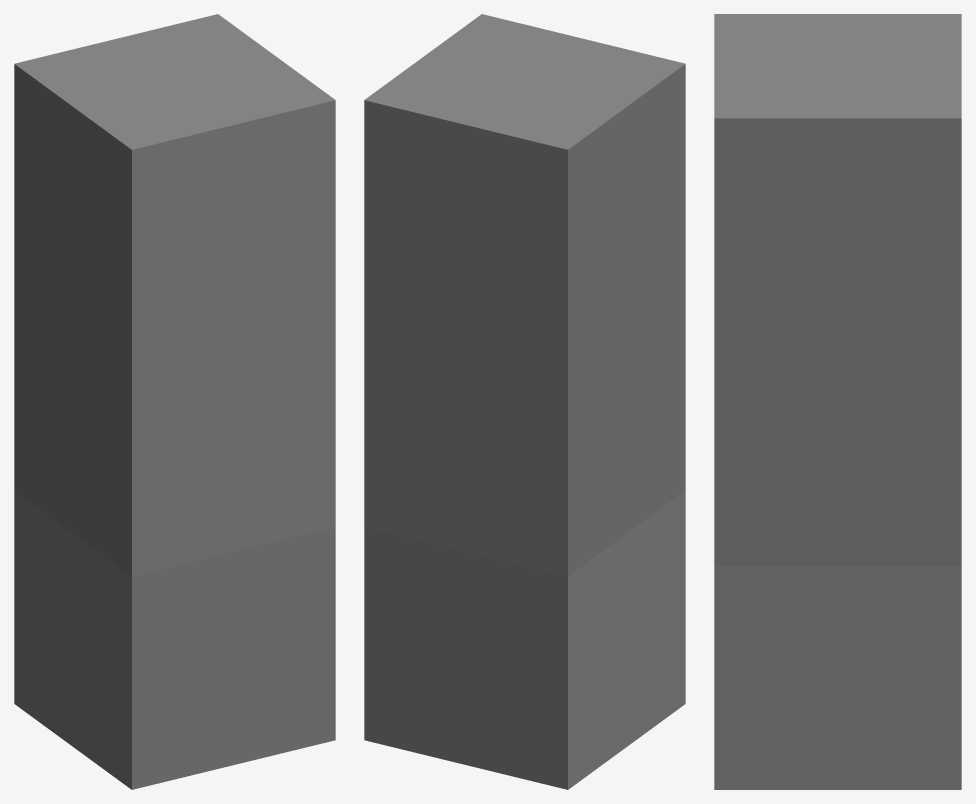
Rendered from BiryusaBk10_Trigger.glb.
3 views of the same model, side by side, from view 1: azimuth 30°, elevation 25°; view 2: azimuth 150°, elevation 25°; view 3: azimuth 270°, elevation 25° (orthographic). The views are drawn at different scales.
Visible parts, largest first — view 1: Trigger_1; view 2: Trigger_1; view 3: Trigger_1.
Part boxes in pixels (box(x1,y1,x2,y2)): Trigger_1: box(14, 14, 335, 789); Trigger_1: box(364, 14, 685, 789); Trigger_1: box(714, 14, 961, 789).
Size of the model in its own units: 0.00687 by 0.0206 by 0.00687.
Materials: 1 (1 with a texture image).
